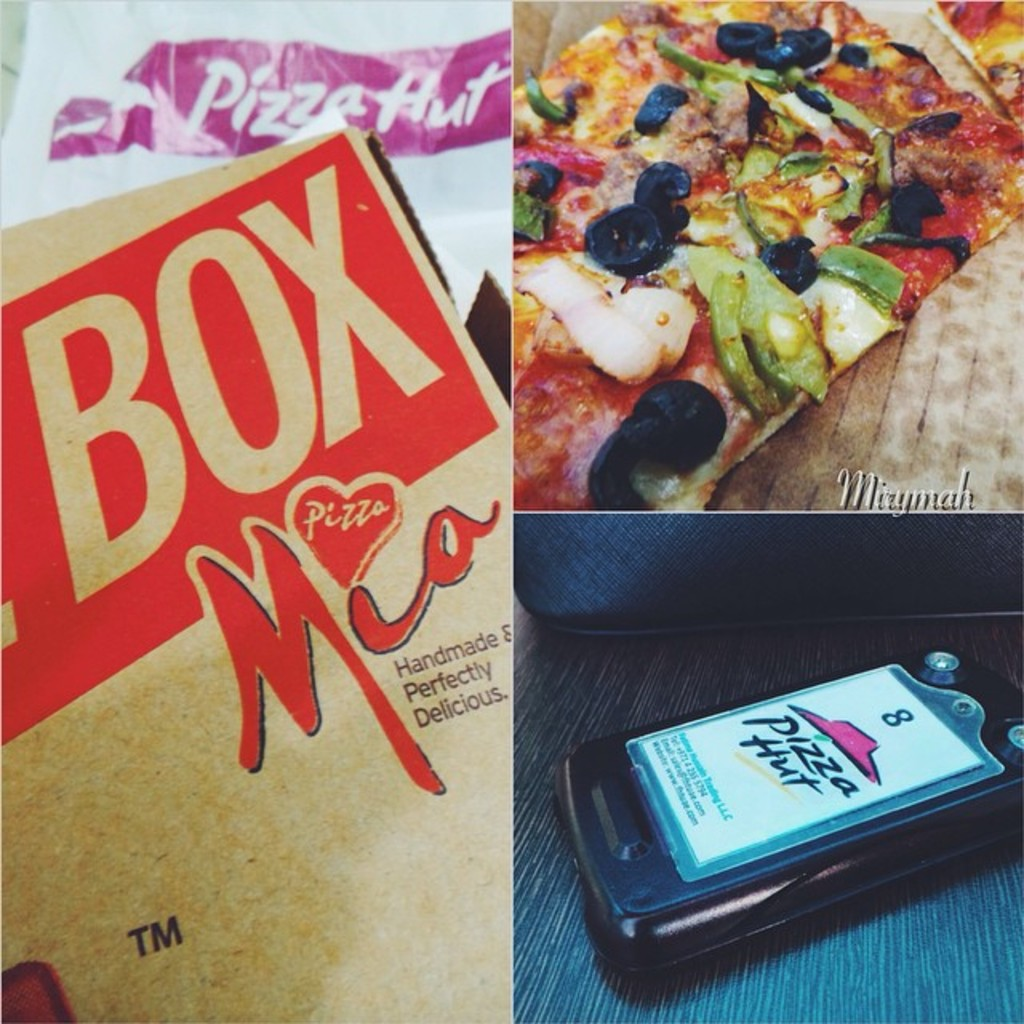Pizza: (508, 9, 979, 516), (929, 0, 1022, 135)
